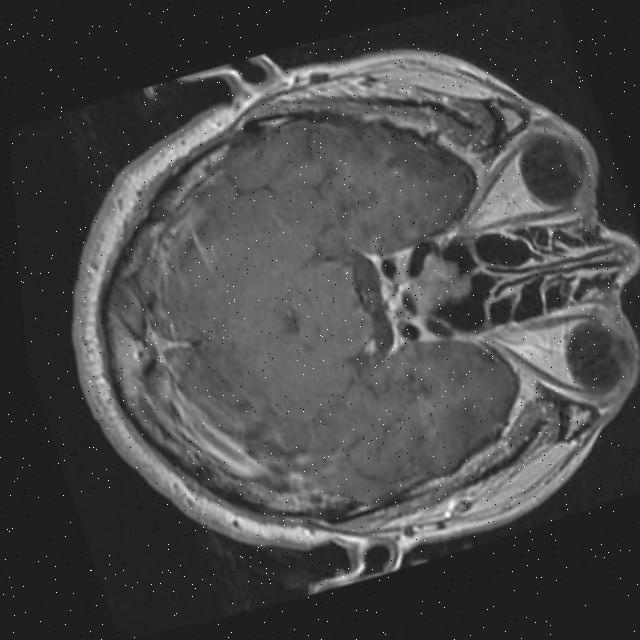Pituitary: (397, 244, 480, 320)
